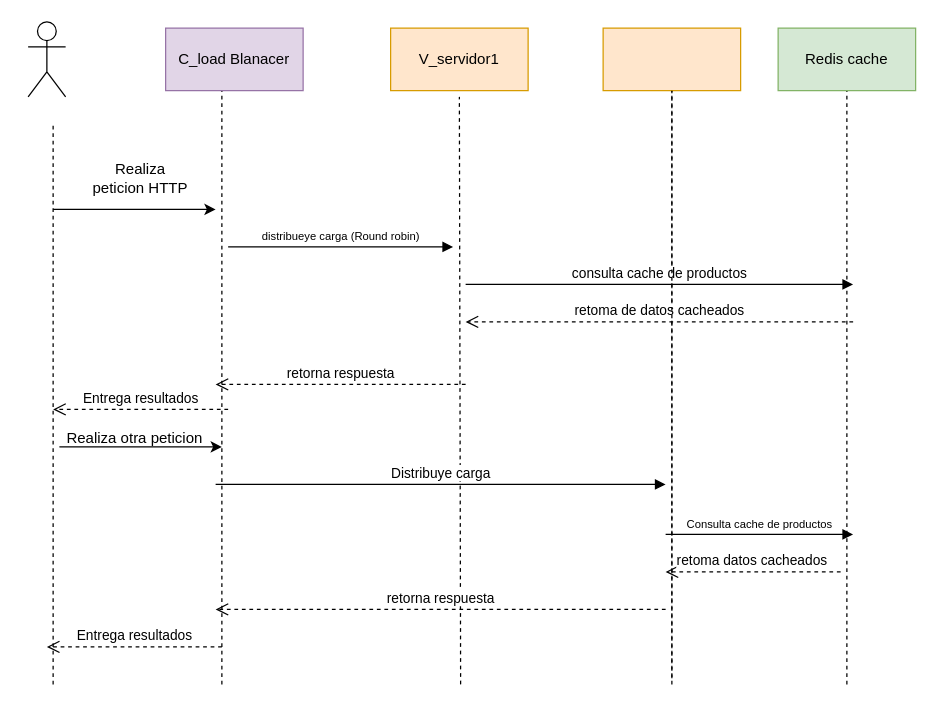
Some shapes in this 938 by 708 pixel diagram are drawn without their labels. Each missing label, with the centre of its shape:
Usuario: [46,59]
V_servidor 2: [671,59]
